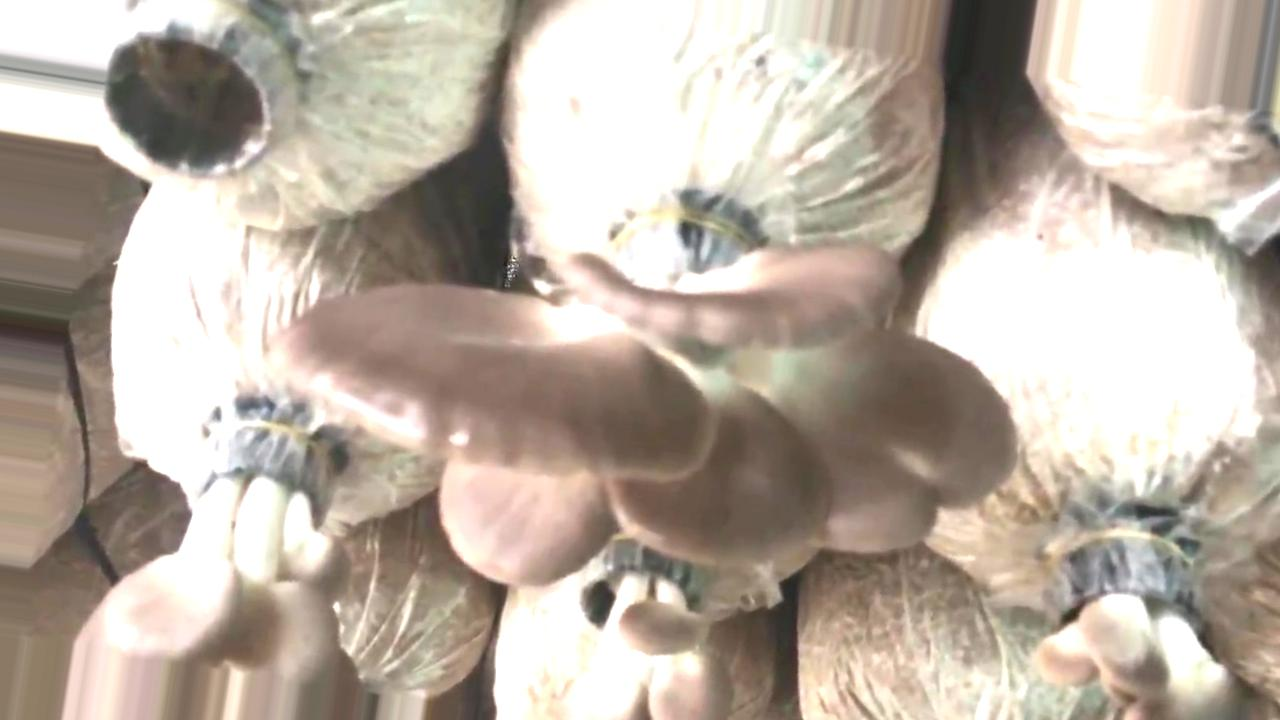nam: (275, 196, 1024, 593), (68, 393, 359, 720), (1029, 509, 1238, 720), (558, 531, 739, 720)
